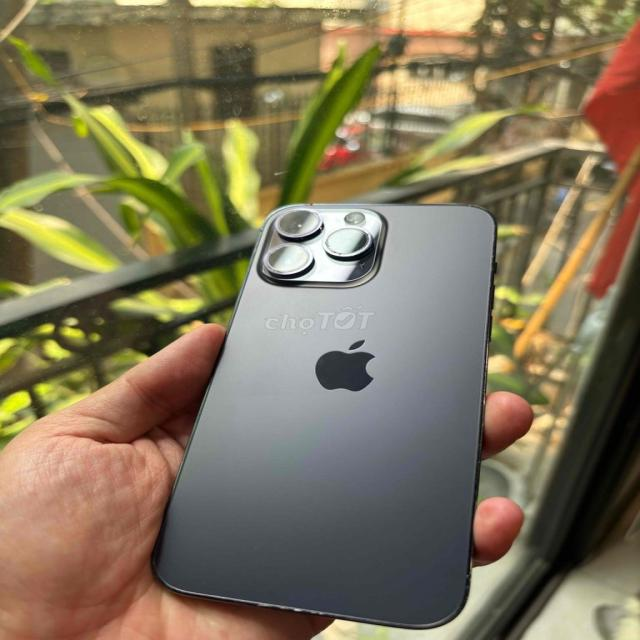scratch: (245, 590, 347, 630)
